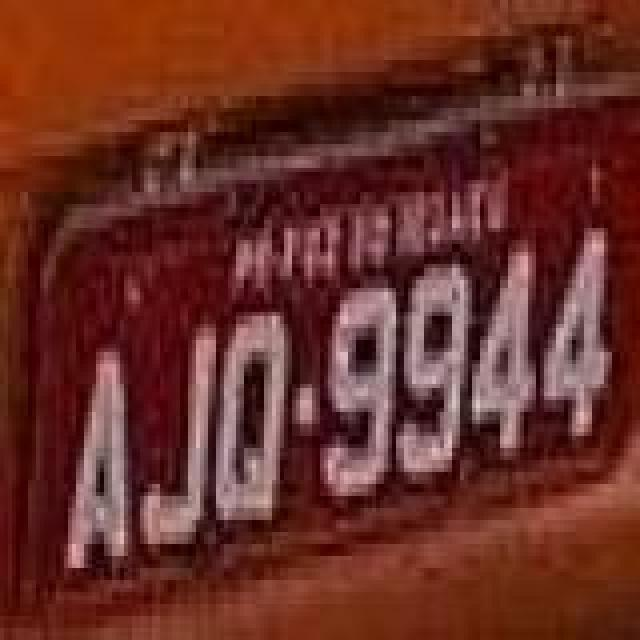4: (468, 248, 540, 464), (540, 224, 612, 440)
9: (318, 284, 402, 500), (394, 266, 470, 486)
A: (60, 340, 132, 572)
J: (138, 324, 214, 556)
Q: (218, 306, 294, 526)
